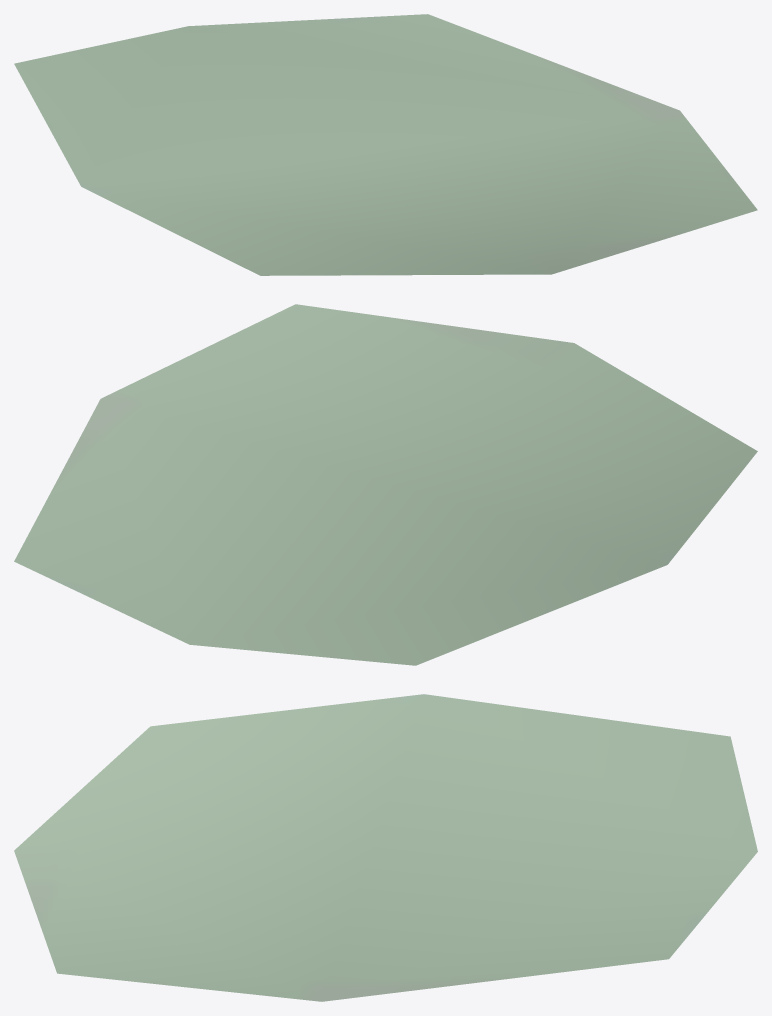
File: TROLLHOLE02_HOLECAP51.fbx
3 renders of one model, top to bottom at view 1: azimuth 30°, elevation 25°; view 2: azimuth 150°, elevation 25°; view 3: azimuth 270°, elevation 25°, orthographic. The views are drawn at different scales.
Visible parts, largest first — view 1: TROLLHOLE02_HOLECAP51; view 2: TROLLHOLE02_HOLECAP51; view 3: TROLLHOLE02_HOLECAP51.
Part boxes in pixels (x1,y1,x2,y2): TROLLHOLE02_HOLECAP51: [14, 14, 757, 275]; TROLLHOLE02_HOLECAP51: [14, 304, 757, 665]; TROLLHOLE02_HOLECAP51: [14, 694, 757, 1001].
Size of the model in its own units: 27113 by 1182 by 30040.
Materials: 1 (1 with a texture image).
